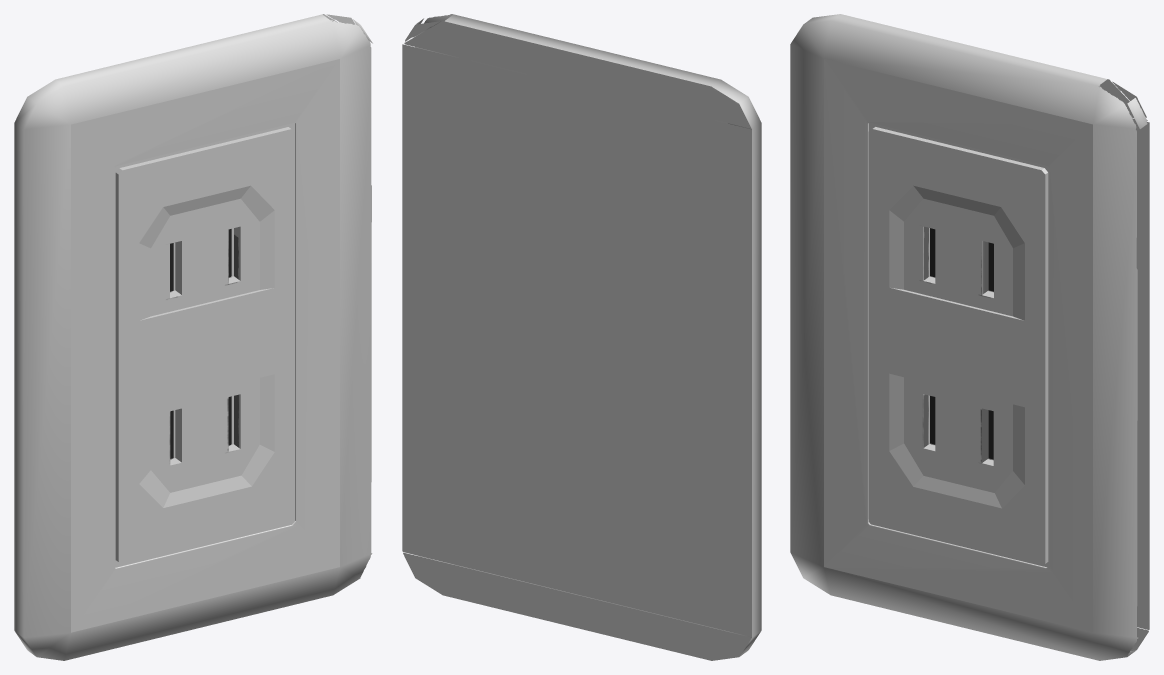
The model's file is socket.fbx.
3 views of the same model, side by side, from view 1: azimuth 30°, elevation 25°; view 2: azimuth 150°, elevation 25°; view 3: azimuth 330°, elevation 25° (orthographic).
Parts seen in each view (by area): view 1: pCube1; view 2: pCube1; view 3: pCube1.
Boxes of the visible parts, x1,y1,x2,y2 form: pCube1: (14,14,372,660); pCube1: (402,14,761,660); pCube1: (790,14,1149,660).
Bounding box in the file's own units: 14.59 × 22.9 × 1.28.
1 material, 1 textured.
